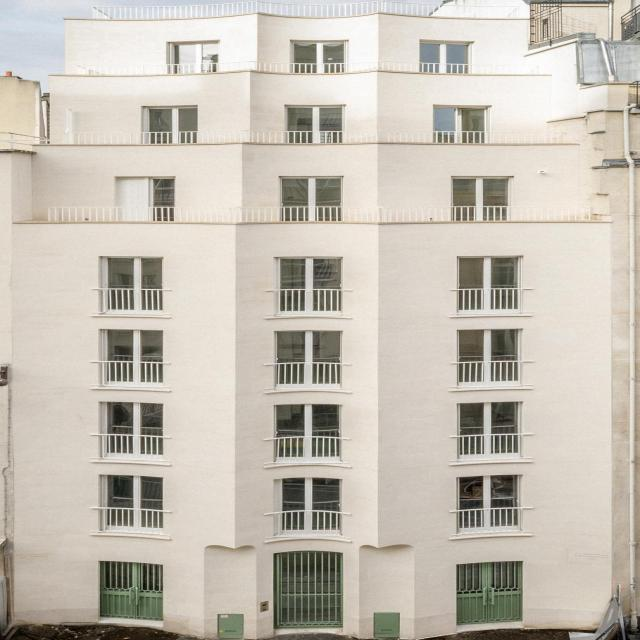Railing: (46, 207, 592, 224), (86, 0, 514, 18), (65, 131, 569, 146), (70, 58, 529, 73), (101, 362, 166, 387), (103, 435, 164, 461), (102, 291, 164, 316), (279, 291, 344, 314), (278, 364, 343, 387), (275, 438, 340, 461), (278, 511, 343, 534), (460, 434, 522, 457), (457, 290, 521, 312), (460, 361, 520, 384), (459, 508, 521, 530), (102, 509, 165, 530)
door: (272, 555, 346, 631), (455, 563, 524, 626), (100, 558, 164, 619)
wall: (8, 0, 608, 638)
windows: (276, 476, 342, 509), (278, 328, 342, 362), (281, 257, 347, 287), (279, 405, 345, 435), (99, 328, 160, 360), (103, 403, 161, 436), (100, 259, 163, 288), (459, 330, 519, 360), (462, 258, 520, 289), (103, 476, 158, 508), (280, 178, 340, 207), (452, 177, 511, 206), (458, 478, 514, 506), (461, 406, 516, 434), (287, 106, 343, 131), (433, 106, 486, 130), (146, 106, 196, 130), (293, 42, 345, 62), (418, 44, 468, 64), (171, 42, 215, 63), (150, 178, 174, 206)
